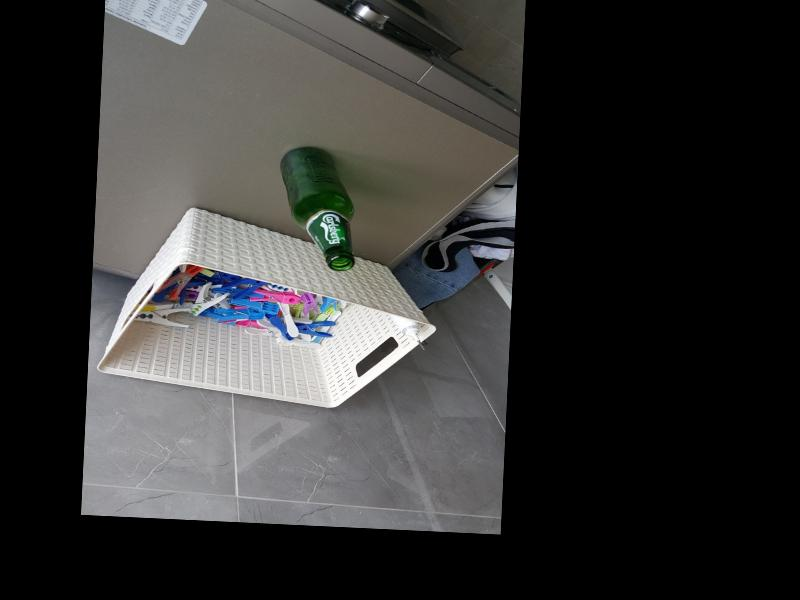Beer: (275, 145, 359, 272)
